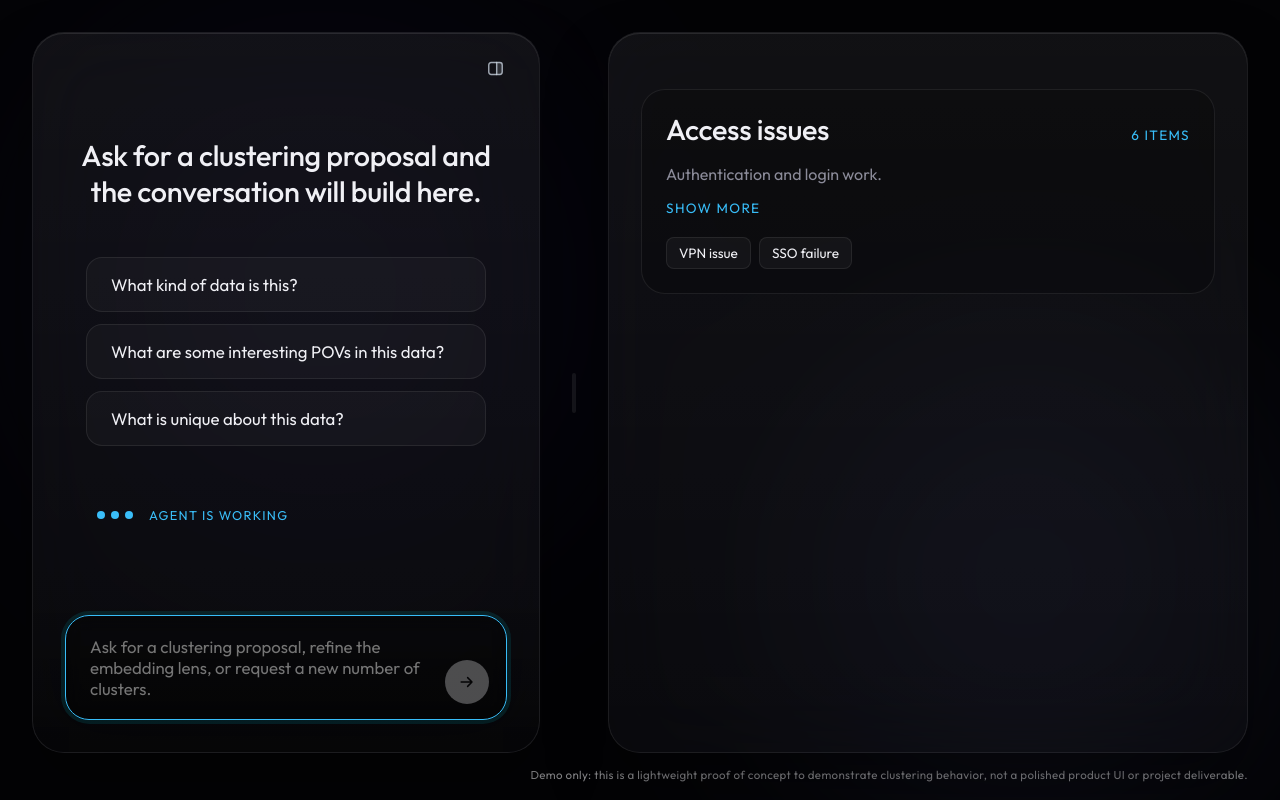
Test: App › renders proposal results immediately when a proposal update arrives mid-turn and lets the user hide the panel
Expected: the heading "Access issues" is shown, left=666, top=114, right=829, bottom=146
What coordinates should you click on to do the following:
click the button named "Hide proposal panel"
I would click on:
 (496, 68)
Its box is left=484, top=57, right=507, bottom=80.
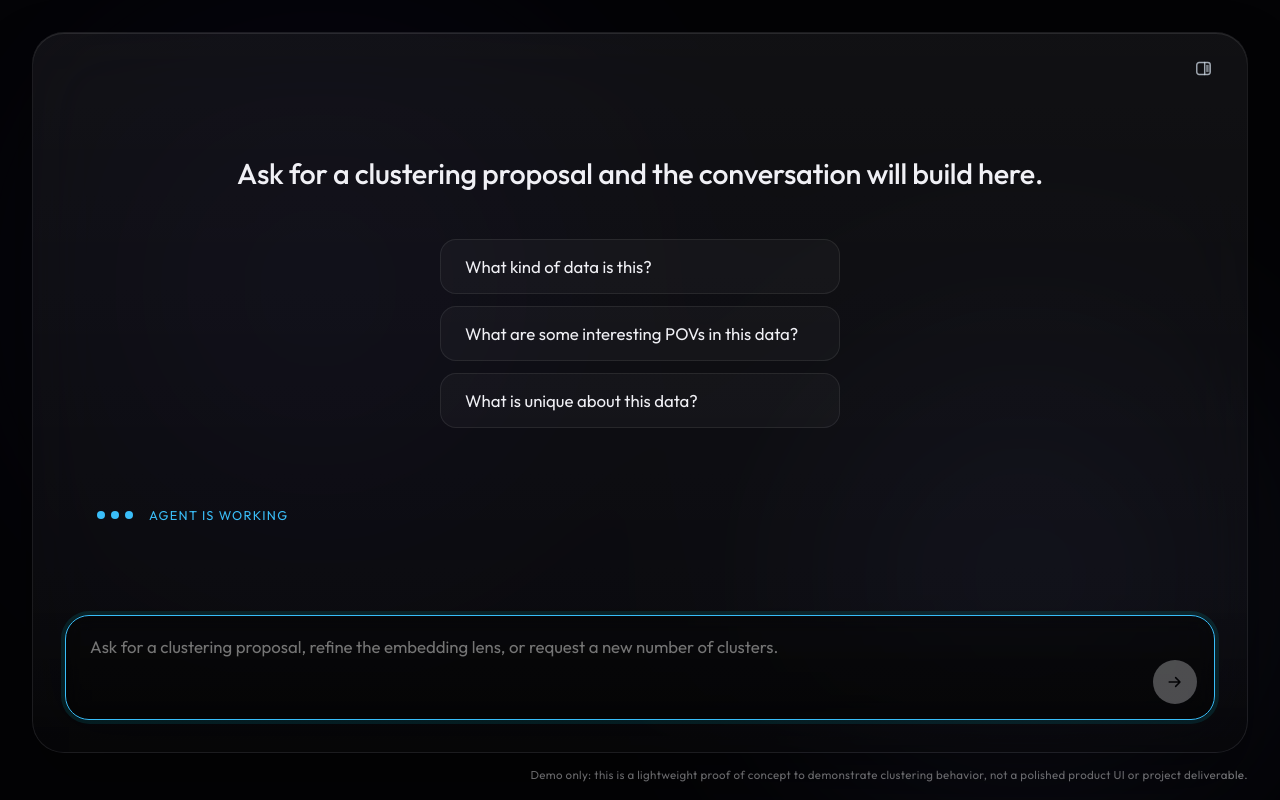
Now the heading "Access issues" is gone
Now the button named "Show proposal panel" is shown
What coordinates should you click on to do the following:
click the button named "Show proposal panel"
I would click on:
 (1204, 68)
Its box is left=1192, top=57, right=1215, bottom=80.
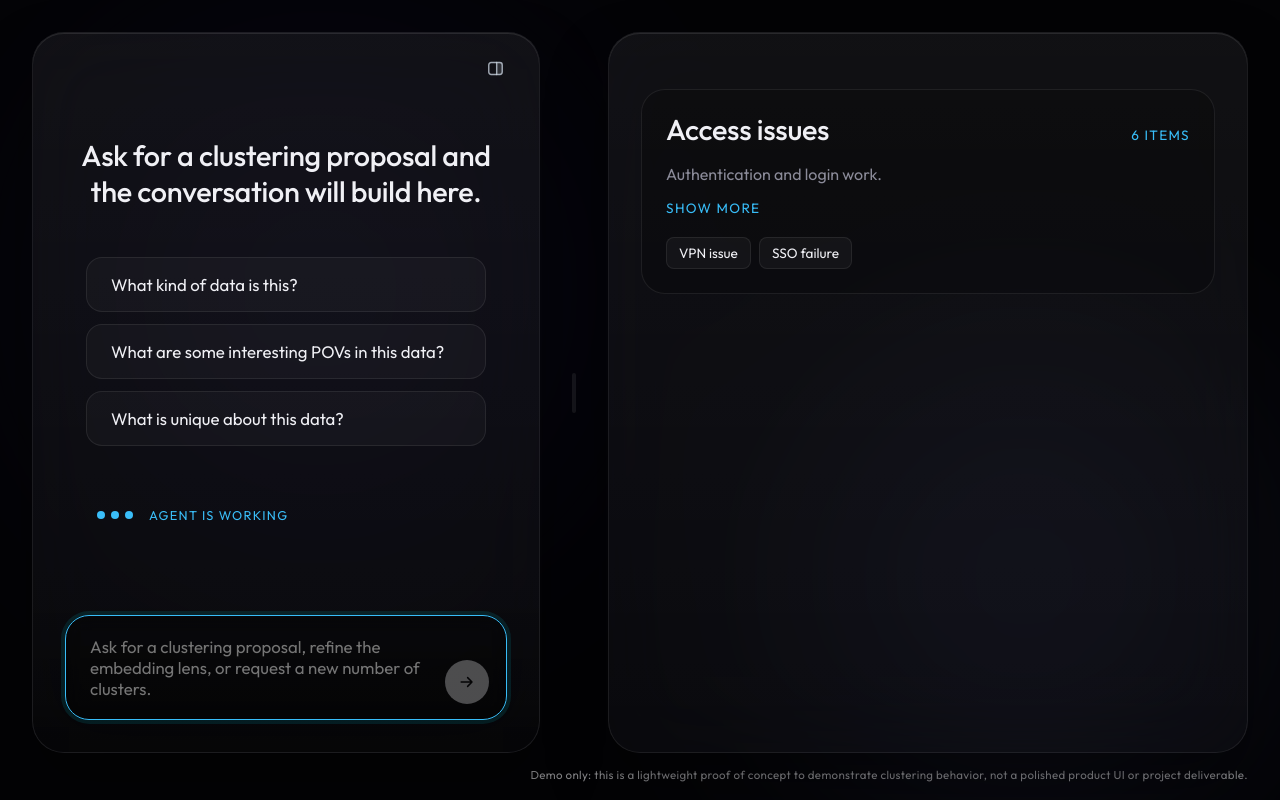
Now the heading "Access issues" is shown, box left=666, top=114, right=829, bottom=146
